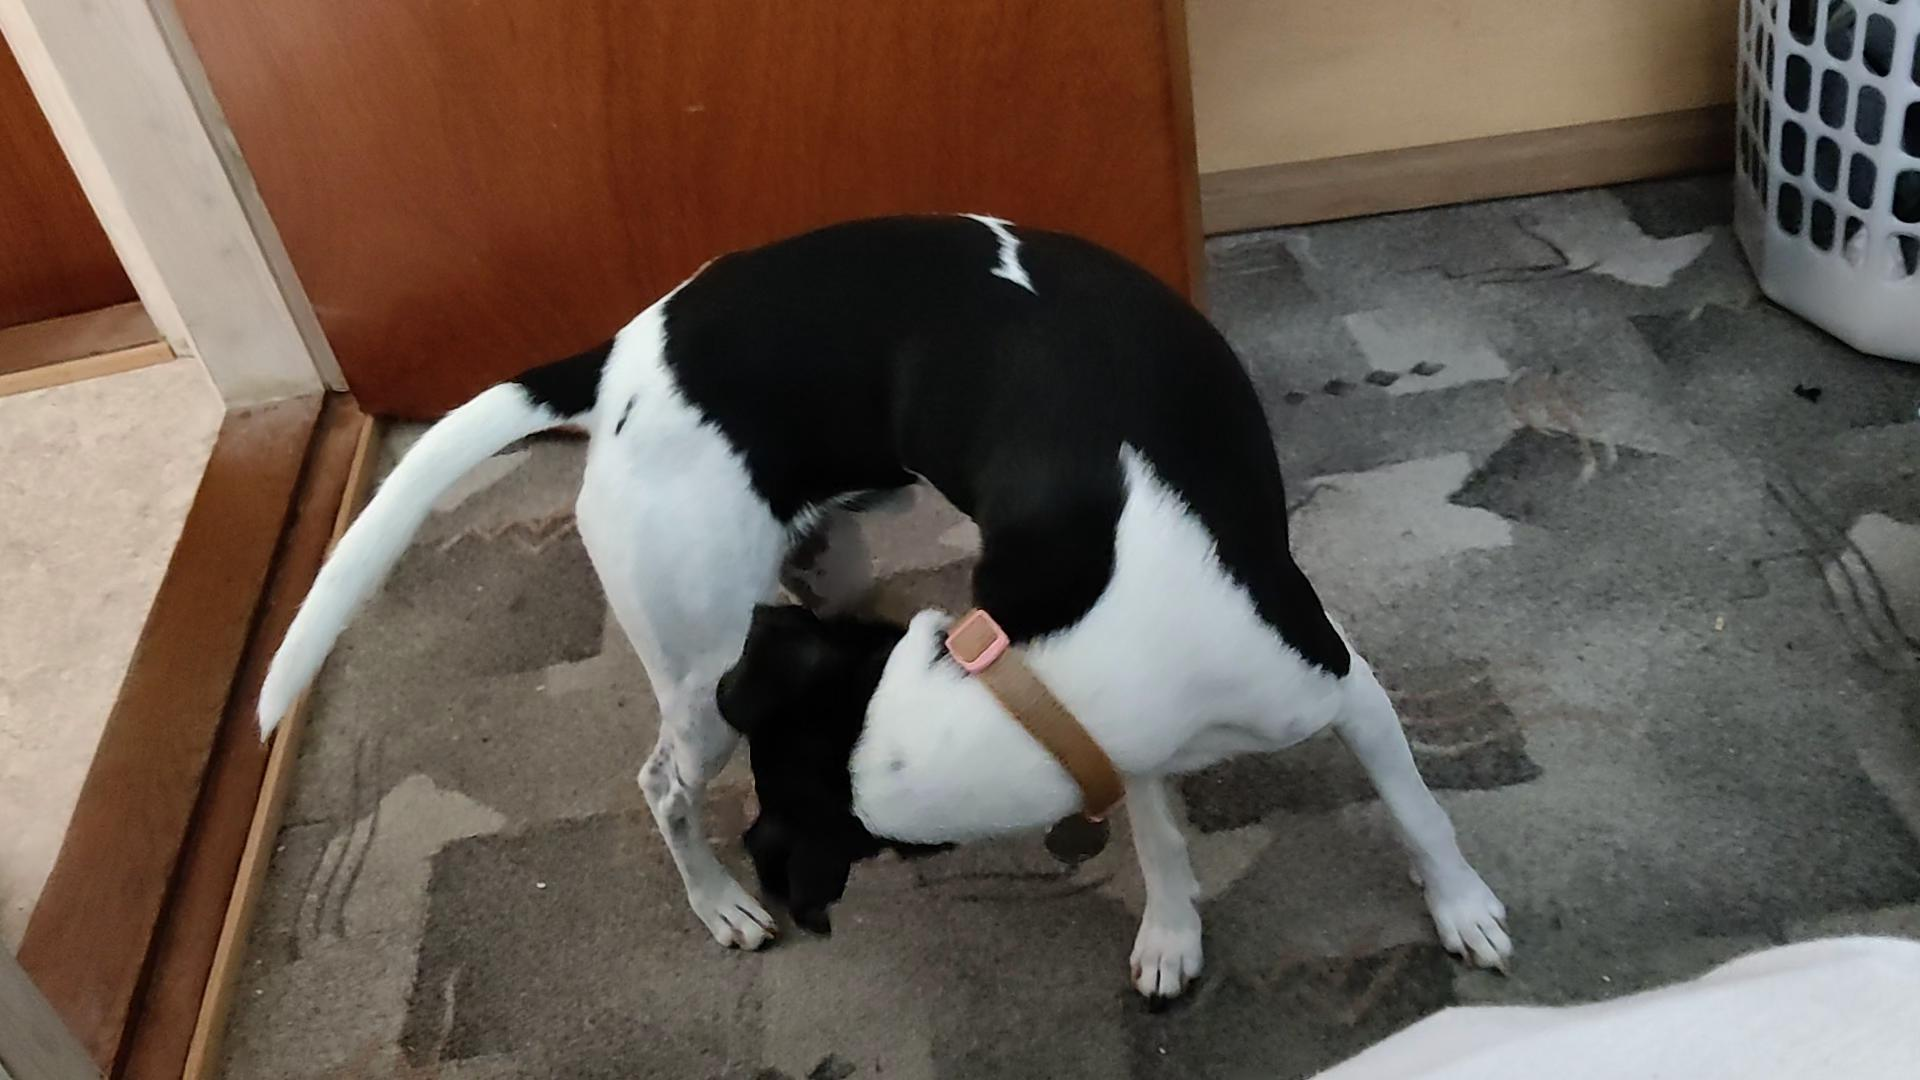Dog: (255, 196, 1523, 1001)
